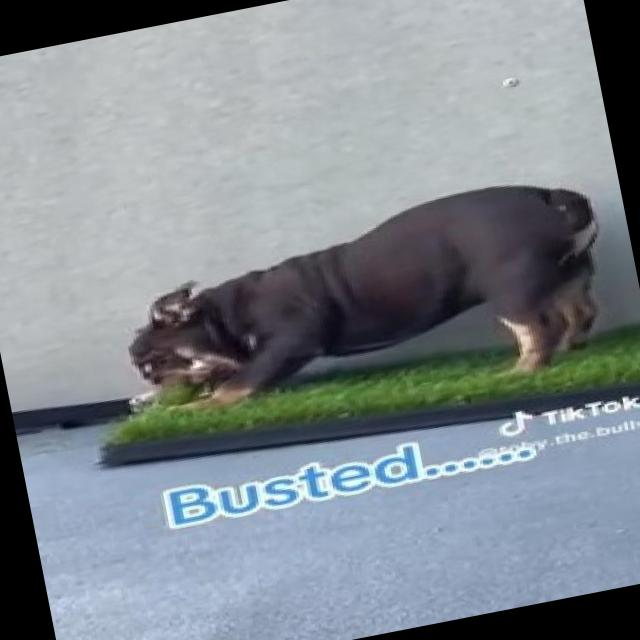dog: (92, 184, 628, 464)
